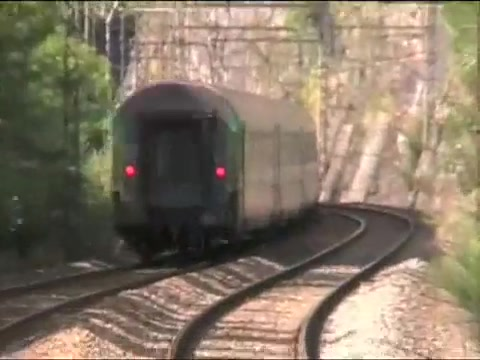train: (110, 85, 327, 262)
